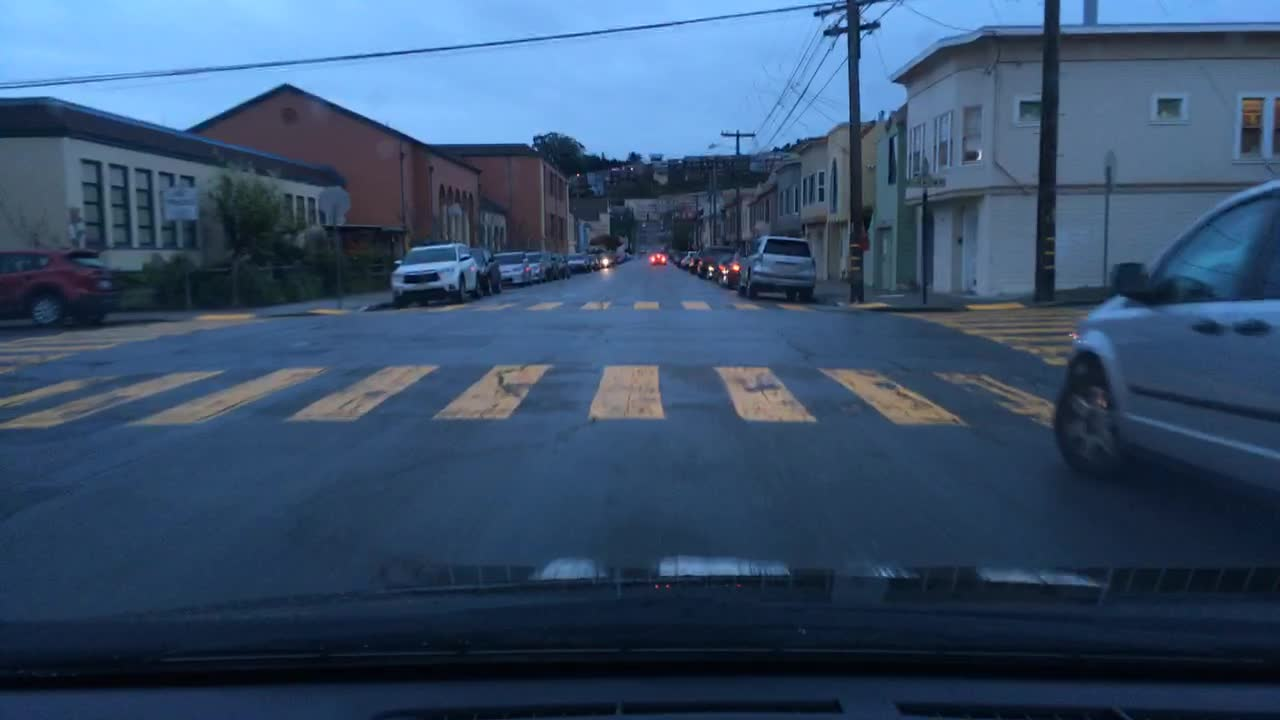car: (1047, 178, 1278, 497), (0, 244, 118, 328), (388, 241, 485, 305), (737, 233, 817, 302), (470, 244, 504, 294), (713, 241, 750, 285), (688, 244, 734, 275), (494, 250, 531, 285), (525, 248, 550, 281), (549, 250, 570, 278), (567, 251, 589, 272), (647, 248, 669, 265), (680, 248, 694, 269), (598, 253, 616, 268), (673, 248, 686, 266), (587, 251, 599, 269)
traffic sign: (313, 184, 353, 226), (160, 186, 200, 220)
